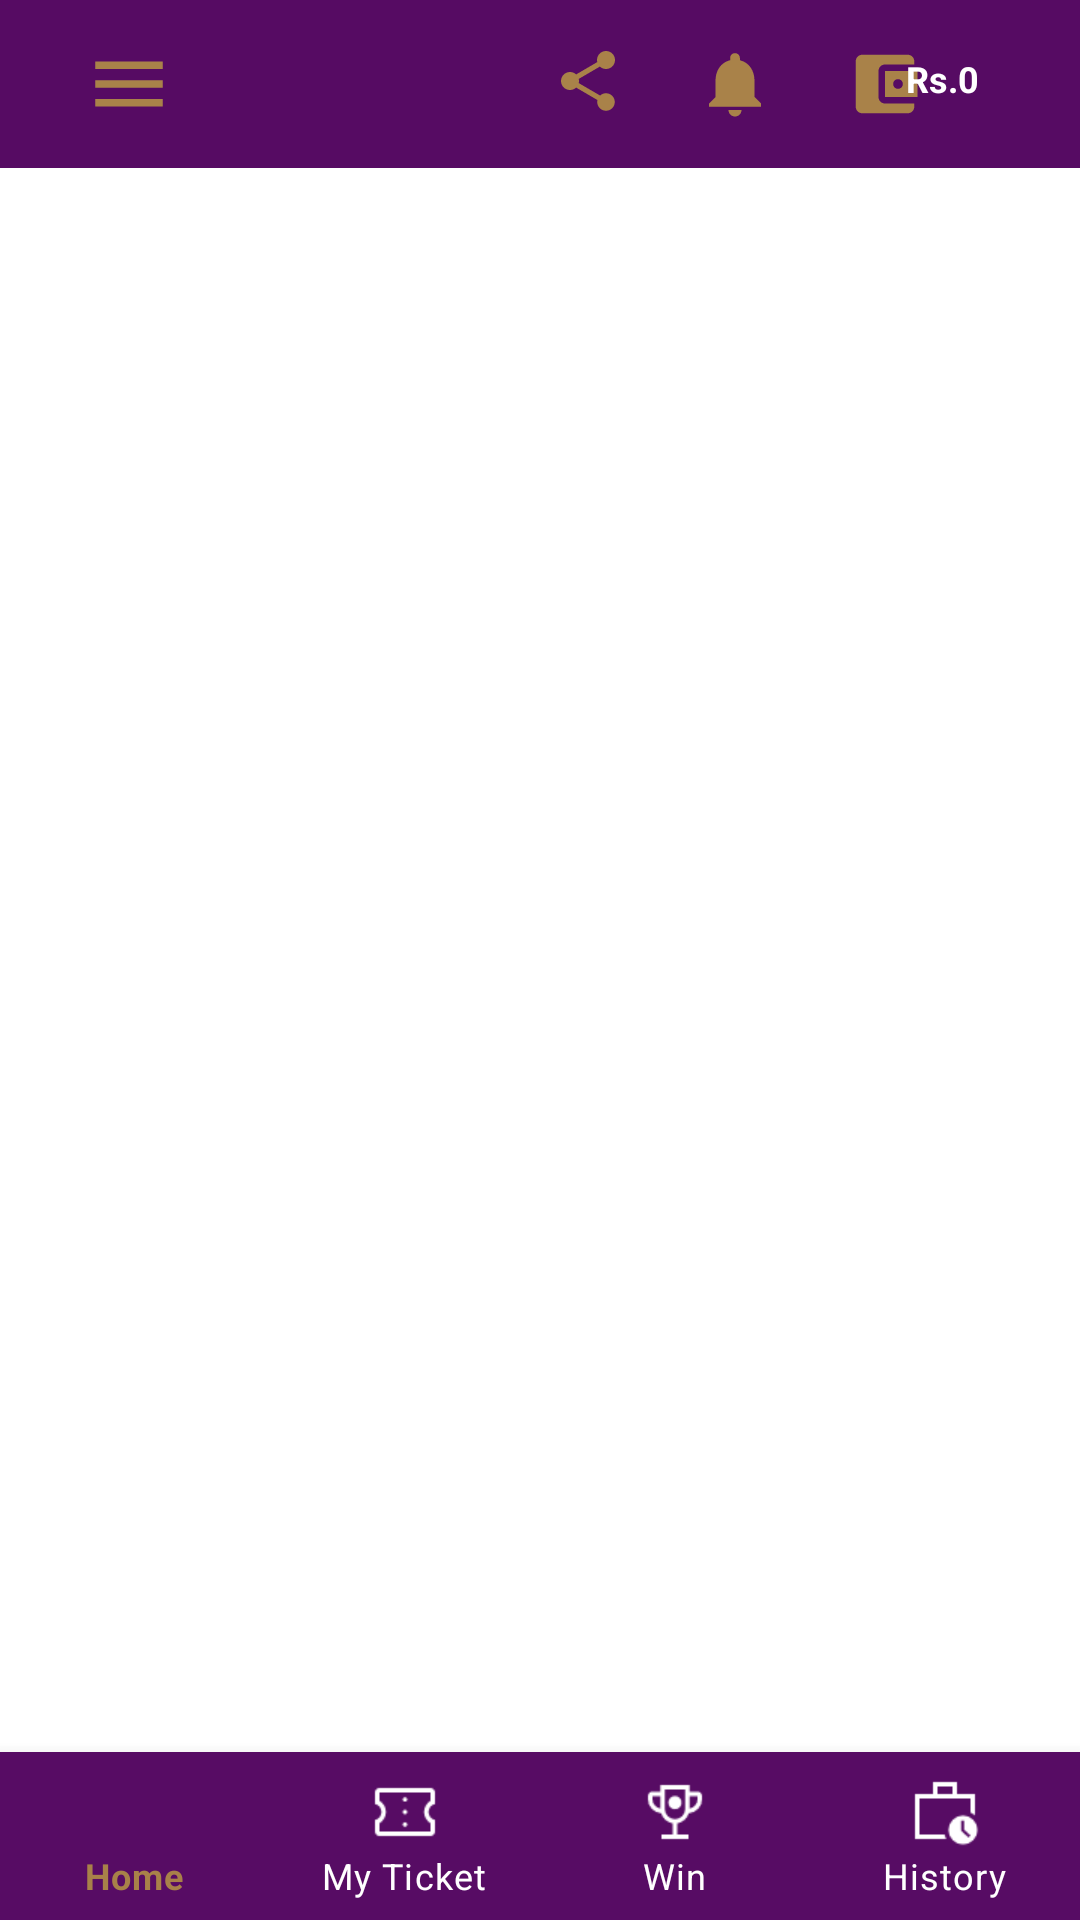

Point at icon controls on the screen. Image size 1080 x 1920, points as (x,y).
menu: (129,84)
notifications: (735,85)
share: (588,81)
